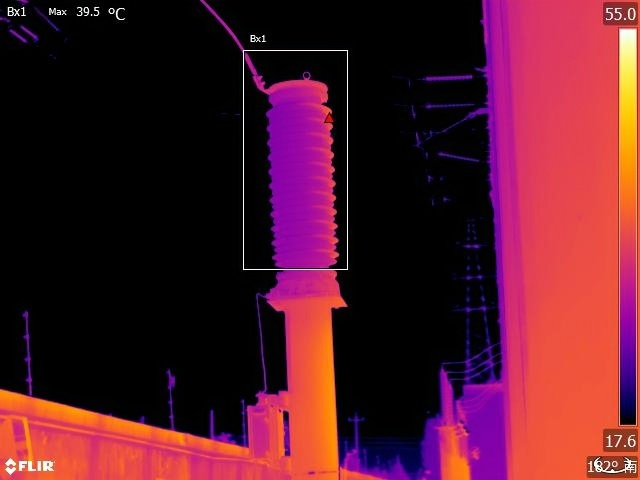potential transformer: (255, 66, 352, 302)
